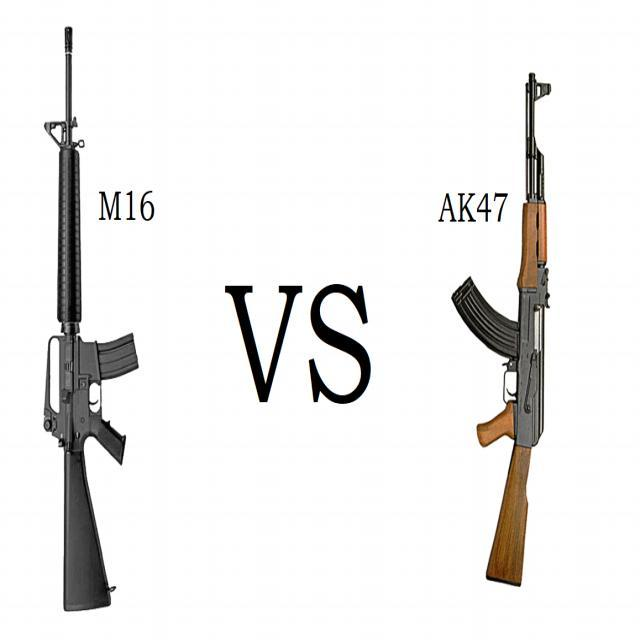weapon: (43, 24, 141, 614), (452, 70, 552, 588)
